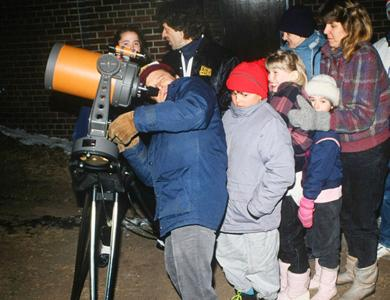person: (109, 62, 226, 299)
